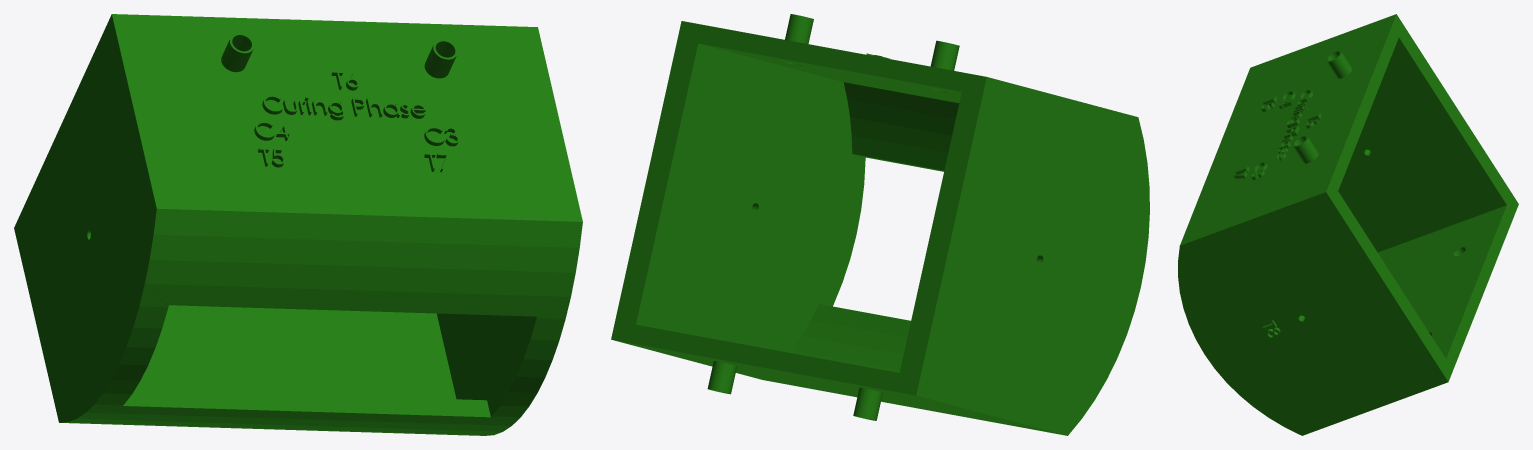
The picture shows the model from 3 angles, left to right: view 1: azimuth 30°, elevation 25°; view 2: azimuth 150°, elevation 25°; view 3: azimuth 270°, elevation 25°; orthographic projection. The views are drawn at different scales.
Visible parts, largest first — view 1: Part2; view 2: Part2; view 3: Part2.
Boxes of the visible parts, x1,y1,x2,y2 form: Part2: [14, 14, 582, 435]; Part2: [611, 14, 1149, 435]; Part2: [1178, 14, 1518, 435].
Bounding box in the file's own units: 512 × 481 × 470.
